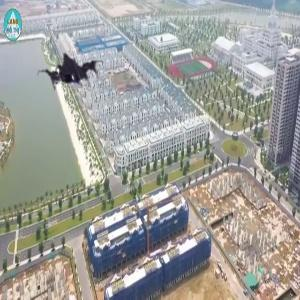drone: (34, 35, 112, 113)
